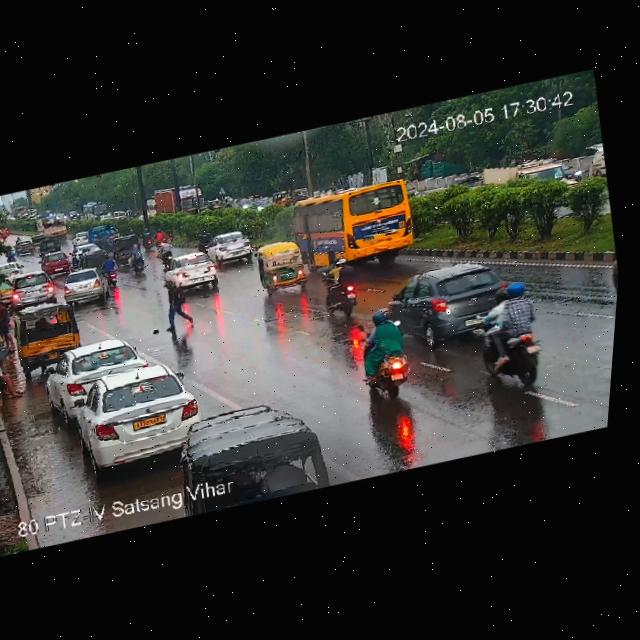bus: (288, 174, 431, 281), (80, 198, 109, 223)
car: (67, 358, 207, 472), (382, 259, 506, 349), (39, 335, 152, 415), (11, 297, 88, 364), (252, 236, 318, 296), (160, 248, 218, 296), (6, 268, 62, 311), (61, 266, 113, 307), (210, 226, 254, 264), (110, 233, 144, 261), (39, 250, 74, 275), (71, 240, 104, 256), (38, 238, 64, 256), (12, 240, 34, 256), (30, 234, 47, 249)
motorcycle: (469, 279, 551, 390), (353, 304, 409, 400), (319, 251, 364, 311), (97, 254, 124, 289), (125, 246, 151, 277), (140, 226, 157, 252), (194, 227, 213, 250), (159, 239, 175, 264), (152, 227, 167, 249), (14, 237, 21, 243)
person: (158, 277, 195, 332), (0, 348, 27, 406), (0, 295, 20, 352)
truck: (152, 181, 207, 220), (34, 211, 75, 241), (85, 221, 119, 251)
